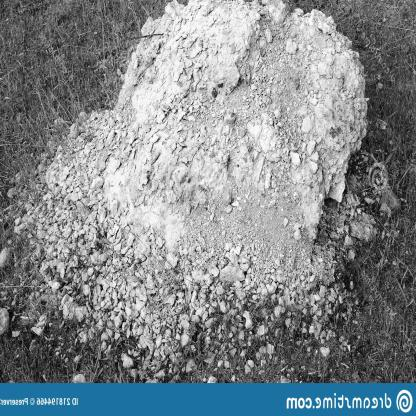Sedimentary_Chalk: (75, 41, 318, 331)
